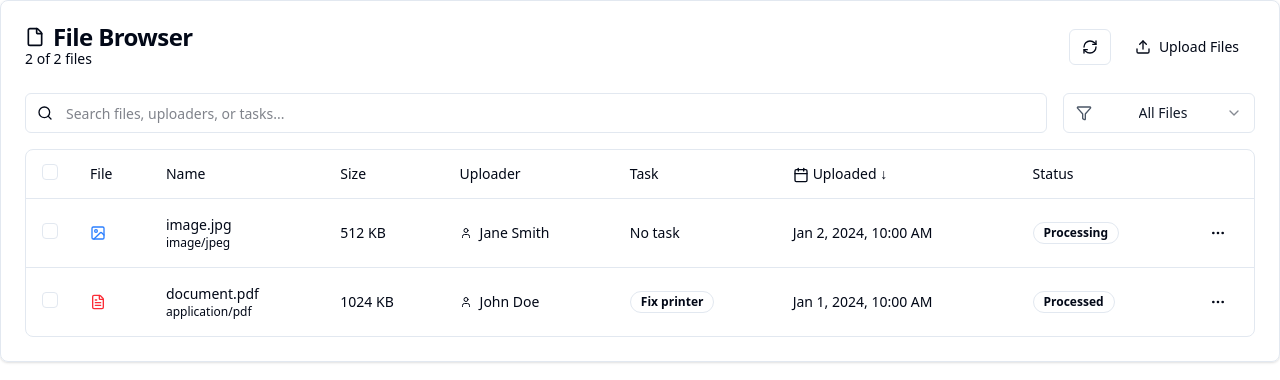
it: FileBrowser Component › should filter files by type
Expected: the text "document.pdf" is shown, [166,284,259,302]
# Open filter dropdown and select images
Click the dropdown at (1159, 113), box [1063,93,1255,133]
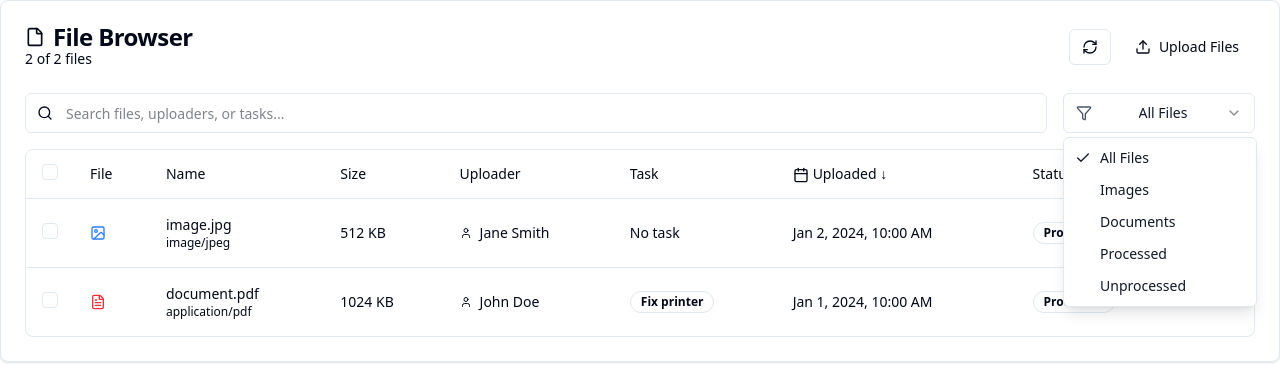
Click the option "Images" at (1124, 190), box [1100,180,1149,199]
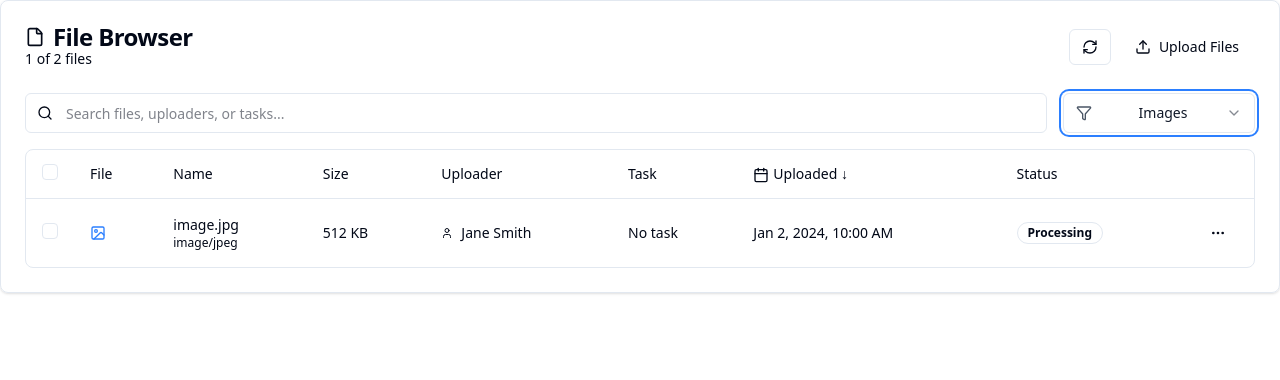
Expected: the text "image.jpg" is shown, [173,214,239,234]
Expected: the text "document.pdf" is gone
